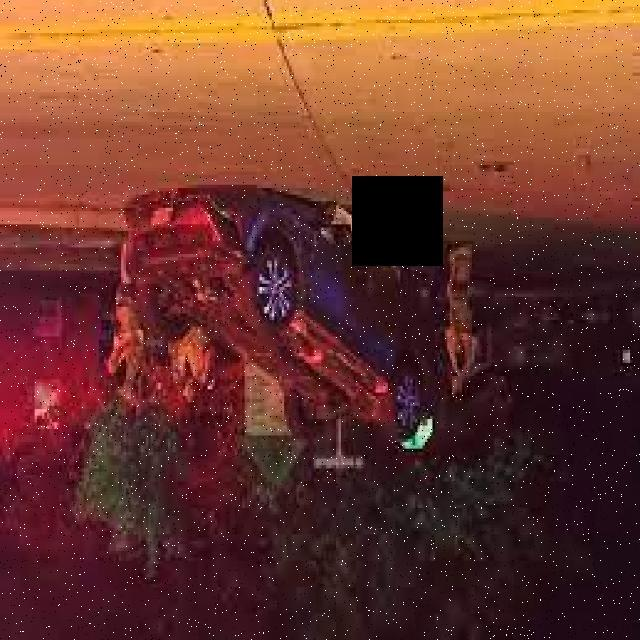severe: (122, 181, 439, 439)
